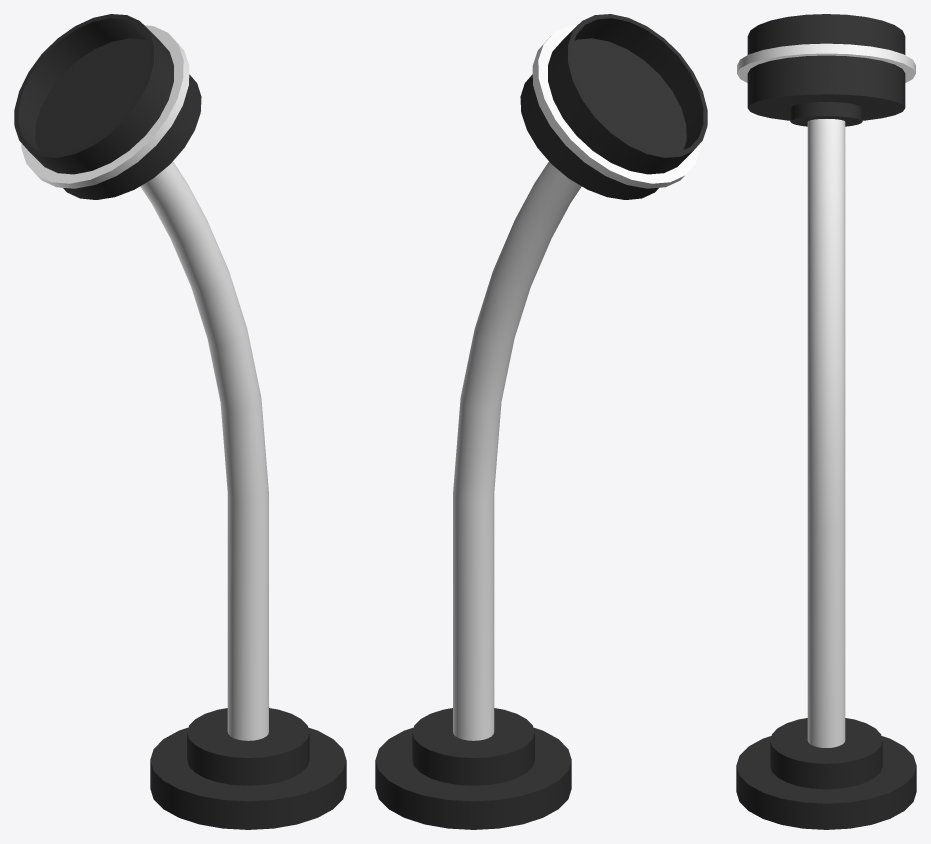
Rendered from pole.dae.
3 views of the same model, side by side, from view 1: azimuth 30°, elevation 25°; view 2: azimuth 150°, elevation 25°; view 3: azimuth 270°, elevation 25° (orthographic). The views are drawn at different scales.
Parts seen in each view (by area): view 1: Cylinder; view 2: Cylinder; view 3: Cylinder.
Boxes of the visible parts, x1=… form: Cylinder: x1=14, y1=14, x2=346, y2=829; Cylinder: x1=375, y1=14, x2=707, y2=829; Cylinder: x1=736, y1=14, x2=916, y2=829.
Bounding box in the file's own units: 205 × 511 × 114.
Materials: 1 (1 with a texture image).
